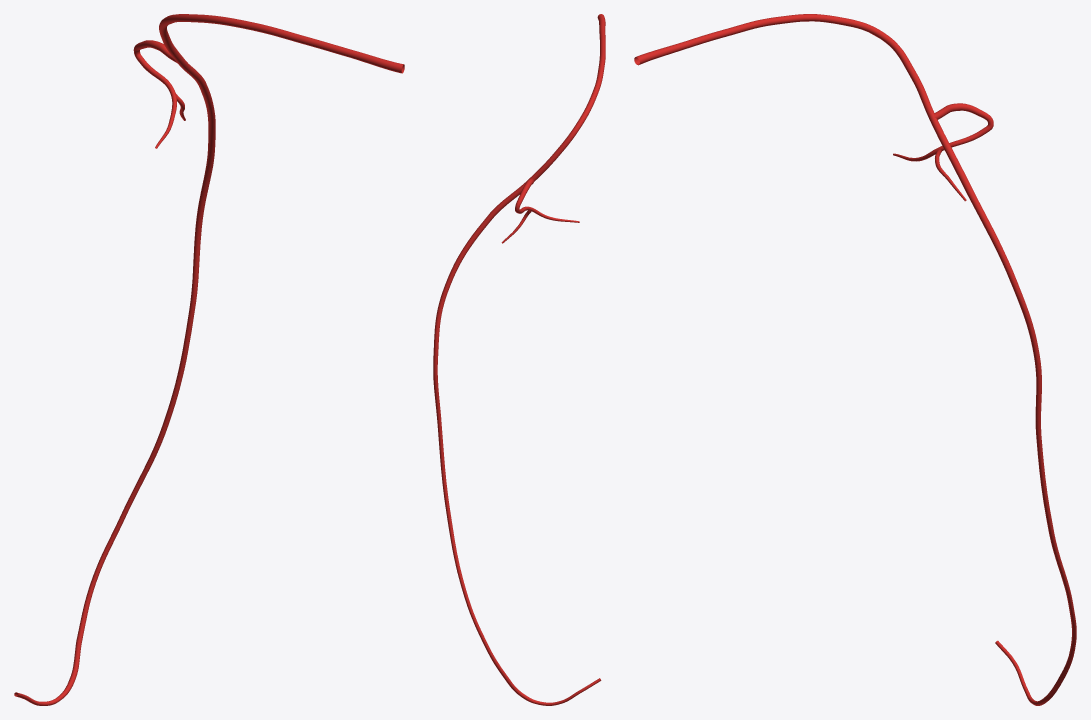
Rendered from circulatorio-deep-branch-of-transverse-cervical-artery-r.glb.
The picture shows the model from 3 angles, left to right: view 1: azimuth 30°, elevation 25°; view 2: azimuth 150°, elevation 25°; view 3: azimuth 270°, elevation 25°; orthographic projection. The views are drawn at different scales.
Visible parts, largest first — view 1: (Deep branch of transverse cervical artery).r; view 2: (Deep branch of transverse cervical artery).r; view 3: (Deep branch of transverse cervical artery).r.
Boxes of the visible parts, x1,y1,x2,y2 form: (Deep branch of transverse cervical artery).r: [14, 14, 404, 705]; (Deep branch of transverse cervical artery).r: [433, 14, 605, 705]; (Deep branch of transverse cervical artery).r: [634, 14, 1076, 705].
Size of the model in its own units: 0.0514 by 0.1783 by 0.1004.
